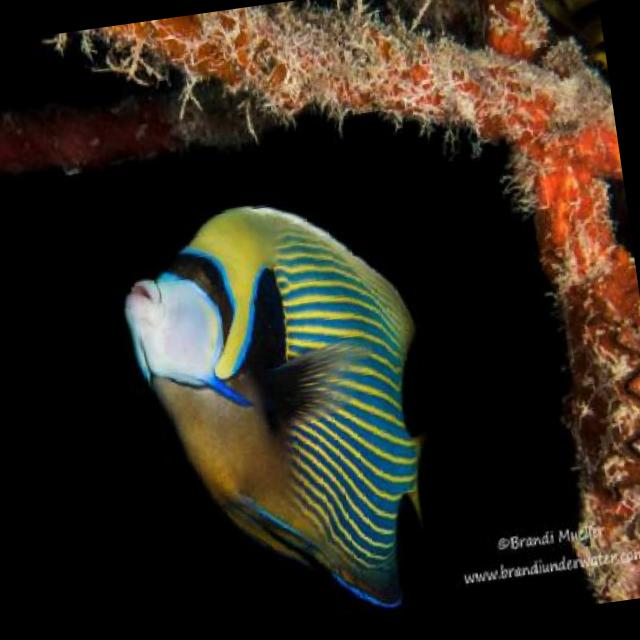AngelFish: (111, 187, 453, 640)
